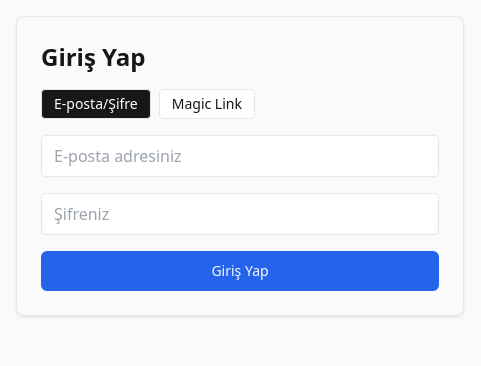
LoginPage › Password Login › hatalı giriş durumunda error mesajı gösteriyor
This screenshot has width=481, height=366.
Step 1. Type "wrong@example.com" into the field with placeholder "E-posta adresiniz" → {"x": 240, "y": 156}, box [41,135,439,177]
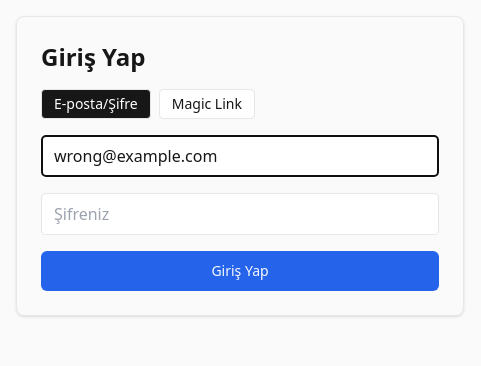
Step 2. Type "wrongpass" into the password field with placeholder "Şifreniz" → {"x": 240, "y": 214}, box [41,193,439,235]
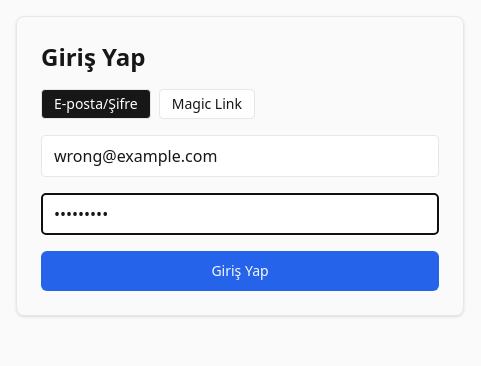
Step 3. Click the button "Giriş Yap" → {"x": 240, "y": 271}, box [41,251,439,291]
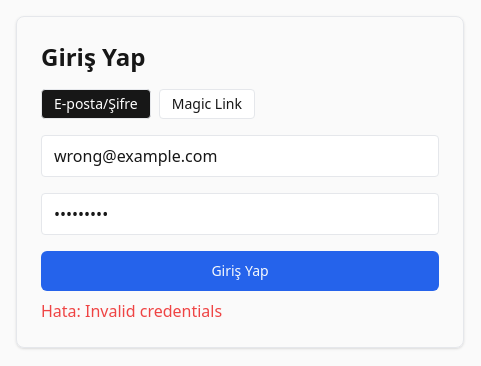
Now the text "Hata: Invalid credentials" is shown, box [41,300,222,322]
